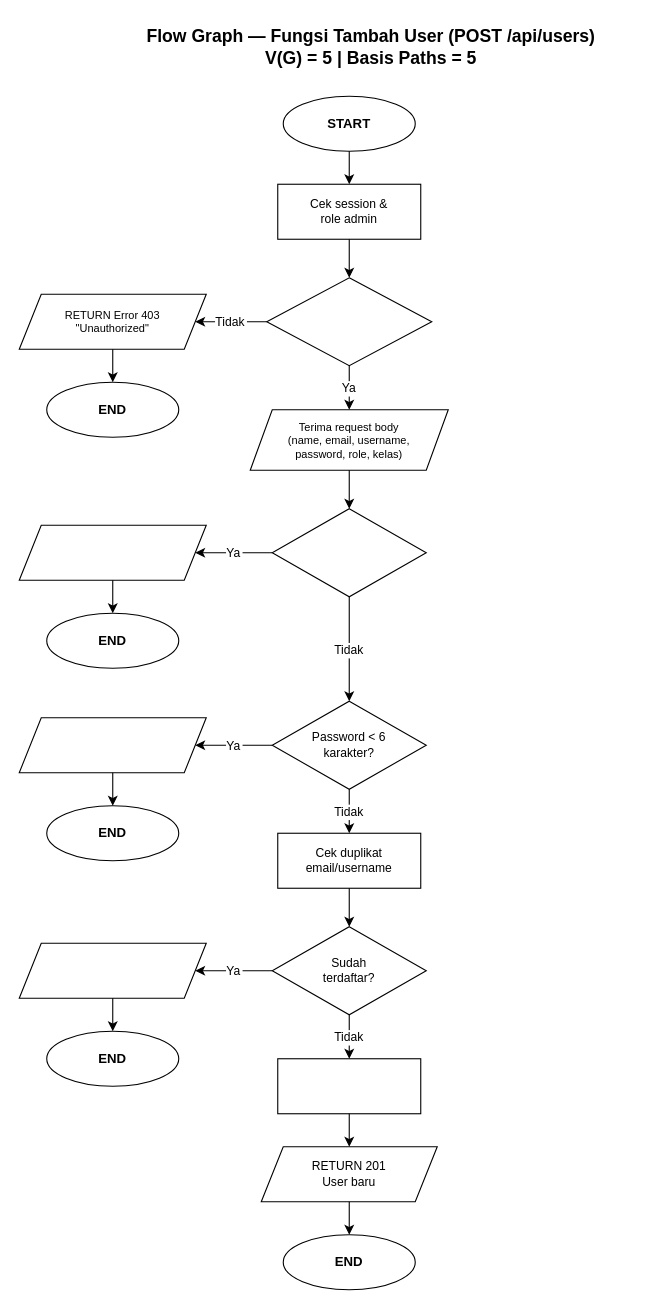
This 666x1309 diagram has some shape labels left out. Here are the shapes that lost their labels. From the top down, the centre of each, then its label:
pixel 349 321: Session valid & role Admin?
pixel 112 552: RETURN Error 400 "Semua field wajib diisi"
pixel 348 552: Field wajib kosong?
pixel 112 745: RETURN Error 400 "Password minimal 6 karakter"
pixel 112 970: RETURN Error 400 "Email/username sudah digunakan"
pixel 349 1086: Hash password & simpan user baru
